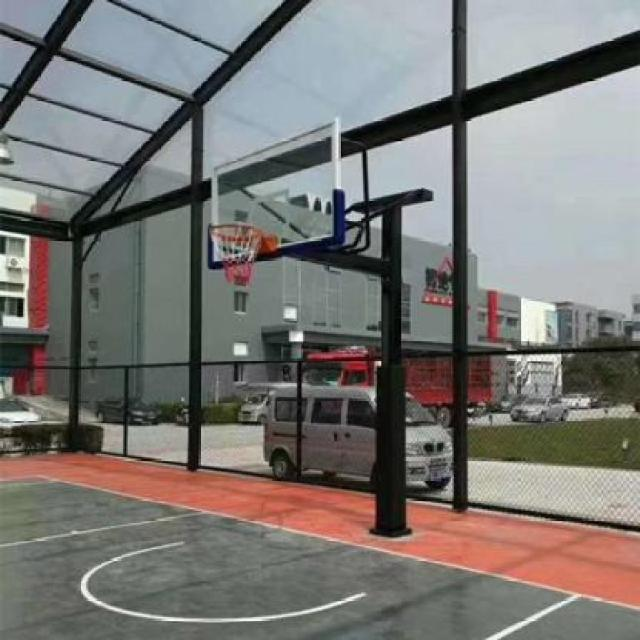rim: (209, 222, 263, 286)
